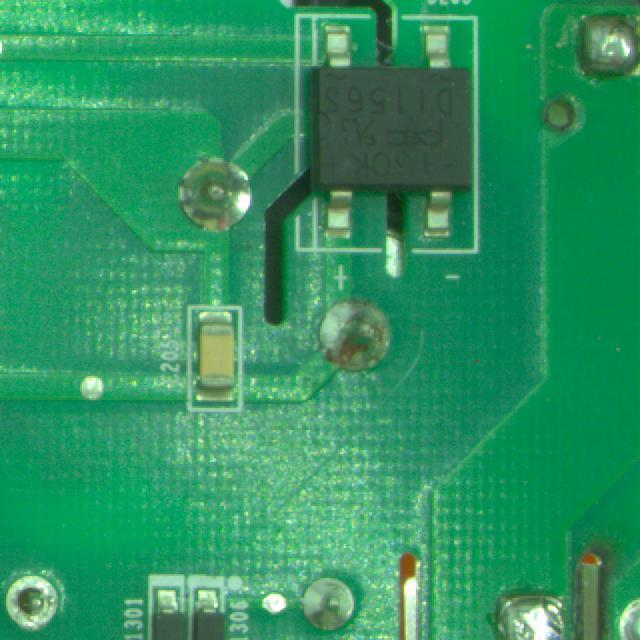Insufficient solder: (0, 573, 73, 630)
